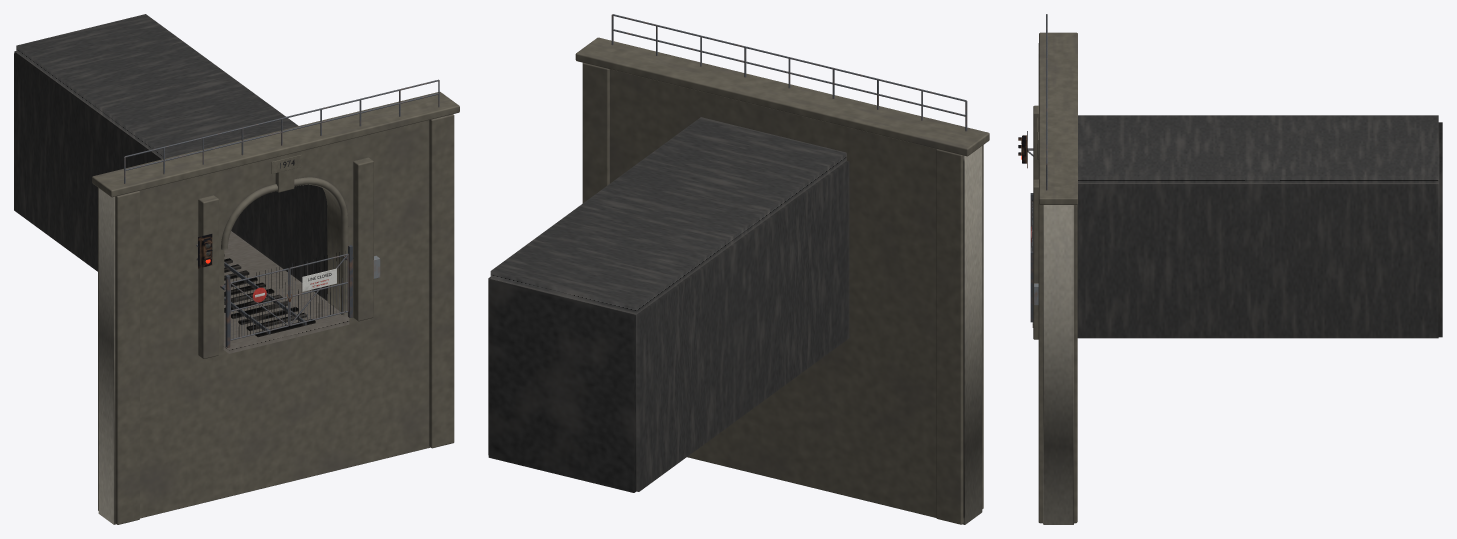
Rendered from portal_kolejowy.glb.
3 views of the same model, side by side, from view 1: azimuth 30°, elevation 25°; view 2: azimuth 150°, elevation 25°; view 3: azimuth 270°, elevation 25° (orthographic). The views are drawn at different scales.
Parts seen in each view (by area): view 1: Portal, Brama, Tablice; view 2: Portal, Brama; view 3: Portal, Brama.
Boxes of the visible parts, x1,y1,x2,y2 form: Portal: (14, 14, 459, 524); Brama: (124, 79, 439, 347); Tablice: (252, 154, 336, 302); Portal: (488, 37, 989, 524); Brama: (611, 14, 967, 131); Portal: (1032, 32, 1442, 524); Brama: (1018, 14, 1047, 322).
Bounding box in the file's own units: 15.1 × 15.07 × 16.29.
4 materials, 3 textured.
